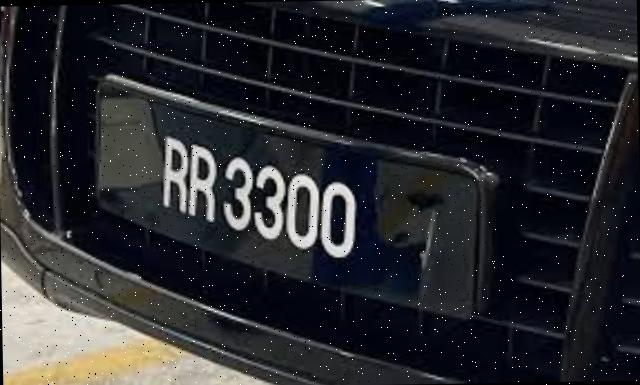License_Plate: (100, 76, 493, 330)
